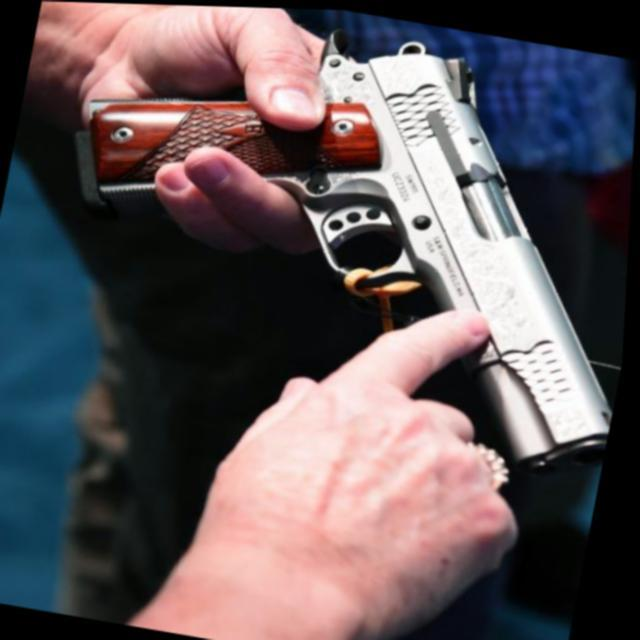weapon: (26, 1, 640, 482)
